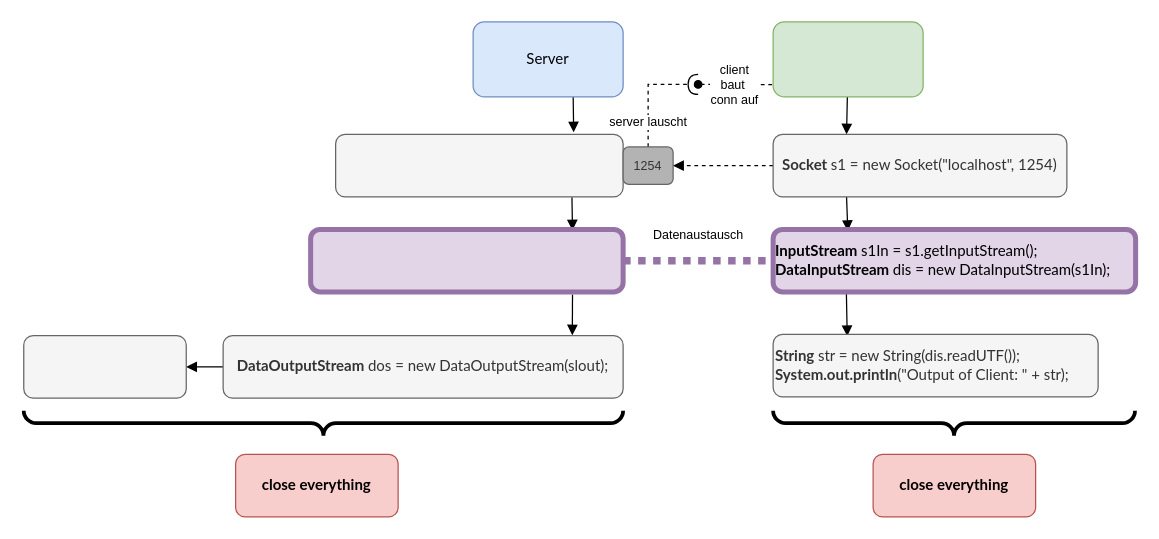
Image size: 1159x539. Some labels were removed from this diagram. The centre of each missing label's shape, as x and y in pixels:
Client: (x=847, y=59)
dos .writeUTF("...);: (x=104, y=366)
OutputStream slout = s1.getOutputStream();: (x=466, y=260)
ServerSocket s = new ServerSocket(1254); Socket s1 = s.accept();: (x=478, y=165)
